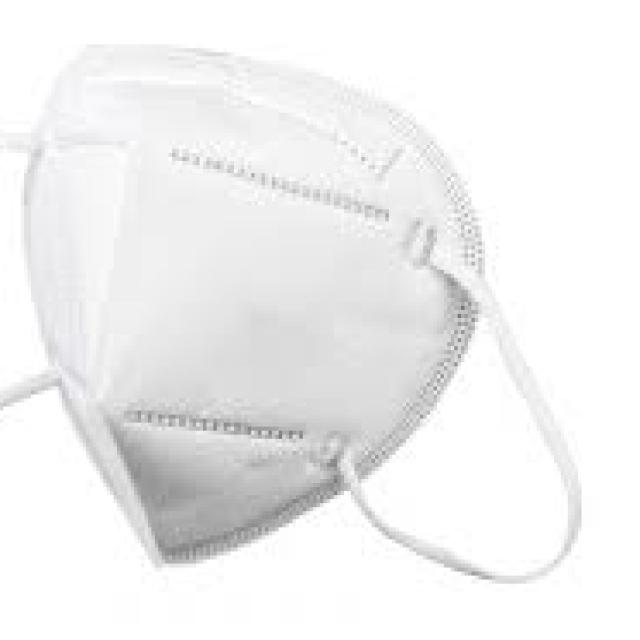organic: (13, 24, 555, 599)
